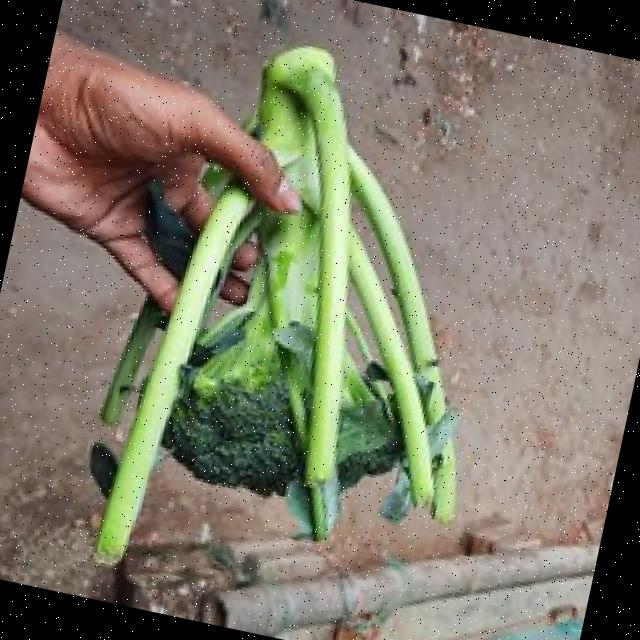Broccoli: (161, 377, 300, 496), (161, 379, 300, 496)
